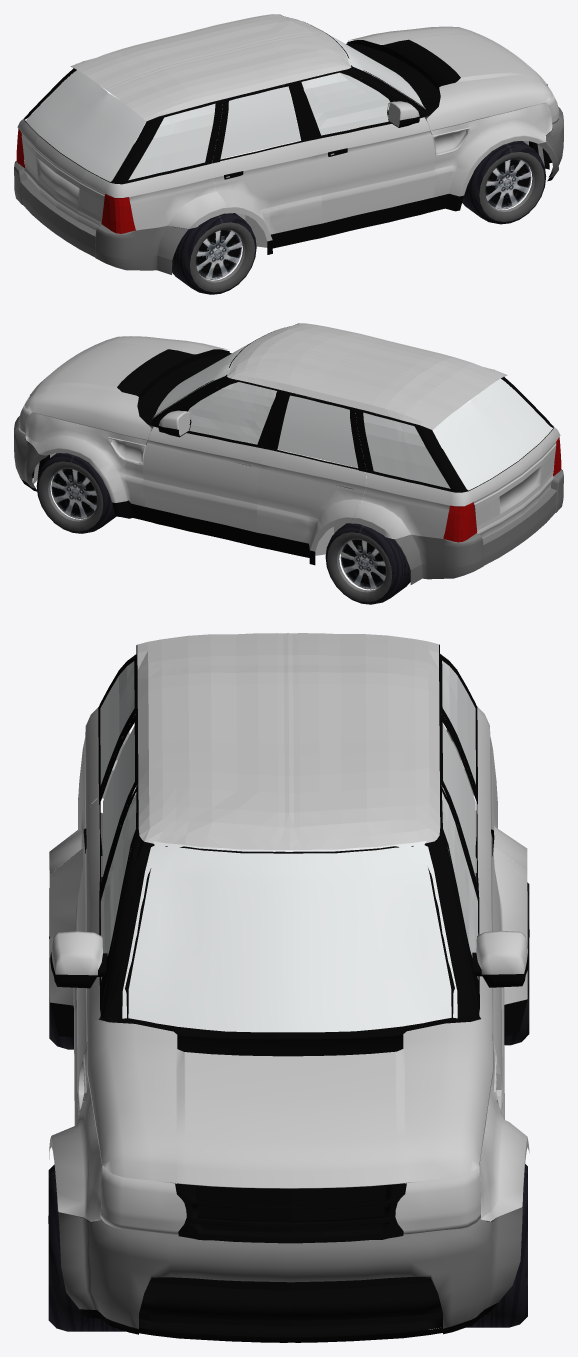
Rendered from suv0.gltf.
3 renders of one model, top to bottom at view 1: azimuth 30°, elevation 25°; view 2: azimuth 150°, elevation 25°; view 3: azimuth 270°, elevation 25°, orthographic. The views are drawn at different scales.
Parts seen in each view (by area): view 1: Chassis_000_Plane_027_Car_Body_Paint_000, Body_Rear_000_Plane_014_Car_Body_Paint_000, Door_Front_000_Plane_025_Car_Body_Paint_000, Hood_000_Plane_029_Car_Body_Paint_000, Door_Rear_000_Plane_024_Car_Body_Paint_000, Window_Rear_000_Plane_012_Tinted_Glass_000, tyre01, tyre002, Front_Wings_000_Plane_026_Car_Body_Paint_000, Line001, Window_Front_Right_000_Plane_021_Tinted_Glass_000, Rear_Bumper_000_Plane_010_Car_Body_Paint_000 (+13 smaller); view 2: Chassis_000_Plane_027_Car_Body_Paint_000, Body_Rear_000_Plane_014_Car_Body_Paint_000, Door_Front_000_Plane_025_Car_Body_Paint_000, Hood_000_Plane_029_Car_Body_Paint_000, Door_Rear_000_Plane_024_Car_Body_Paint_000, Window_Rear_000_Plane_012_Tinted_Glass_000, tyre01, Front_Wings_000_Plane_026_Car_Body_Paint_000, tyre002, Line002, Window_Front_Left_000_Plane_020_Tinted_Glass_000, Window_Near_Rear_000_Plane_011_Tinted_Glass_000 (+13 smaller); view 3: Chassis_000_Plane_027_Car_Body_Paint_000, Hood_000_Plane_029_Car_Body_Paint_000, Windscreen_000_Plane_017_Tinted_Glass_000, Front_Bumper_000_Plane_062_Car_Body_Paint_000, Front_Bumper_000_Plane_062_Shiny_Plastic_000, Chassis_000_Plane_027_Shiny_Plastic_000, Plane_002_Plane_023_Material_031, Door_Rear_000_Plane_024_Car_Body_Paint_000, Front_Wings_000_Plane_026_Car_Body_Paint_000, Headlights_Glass_000_Plane_030_Transparent_Glass_000, Front_Grill_000_Plane_069_Shiny_Plastic_000, tyre002 (+14 smaller).
Part boxes in pixels (box(x1,y1,x2,y2)): Chassis_000_Plane_027_Car_Body_Paint_000: box(71, 14, 351, 121); Body_Rear_000_Plane_014_Car_Body_Paint_000: box(17, 118, 230, 230); Door_Front_000_Plane_025_Car_Body_Paint_000: box(313, 117, 435, 223); Hood_000_Plane_029_Car_Body_Paint_000: box(348, 26, 552, 130); Door_Rear_000_Plane_024_Car_Body_Paint_000: box(212, 140, 321, 241); Window_Rear_000_Plane_012_Tinted_Glass_000: box(26, 70, 145, 181); tyre01: box(101, 143, 256, 294); tyre002: box(364, 115, 546, 224); Front_Wings_000_Plane_026_Car_Body_Paint_000: box(431, 102, 552, 197); Line001: box(220, 86, 300, 158); Window_Front_Right_000_Plane_021_Tinted_Glass_000: box(301, 72, 390, 135); Rear_Bumper_000_Plane_010_Car_Body_Paint_000: box(14, 161, 188, 259); Chassis_000_Plane_027_Car_Body_Paint_000: box(227, 323, 506, 429); Body_Rear_000_Plane_014_Car_Body_Paint_000: box(351, 426, 560, 539); Door_Front_000_Plane_025_Car_Body_Paint_000: box(142, 426, 265, 532); Hood_000_Plane_029_Car_Body_Paint_000: box(25, 336, 227, 440); Door_Rear_000_Plane_024_Car_Body_Paint_000: box(256, 449, 366, 551); Window_Rear_000_Plane_012_Tinted_Glass_000: box(432, 378, 551, 490); tyre01: box(325, 449, 476, 604); Front_Wings_000_Plane_026_Car_Body_Paint_000: box(25, 412, 147, 506); tyre002: box(36, 425, 153, 533); Line002: box(277, 395, 358, 467); Window_Front_Left_000_Plane_020_Tinted_Glass_000: box(188, 382, 276, 444); Window_Near_Rear_000_Plane_011_Tinted_Glass_000: box(363, 412, 450, 488); Chassis_000_Plane_027_Car_Body_Paint_000: box(137, 633, 440, 851); Hood_000_Plane_029_Car_Body_Paint_000: box(87, 1018, 493, 1188); Windscreen_000_Plane_017_Tinted_Glass_000: box(122, 841, 457, 1032); Front_Bumper_000_Plane_062_Car_Body_Paint_000: box(58, 1207, 522, 1328); Front_Bumper_000_Plane_062_Shiny_Plastic_000: box(80, 1281, 497, 1342); Chassis_000_Plane_027_Shiny_Plastic_000: box(100, 644, 479, 1039); Plane_002_Plane_023_Material_031: box(139, 1183, 442, 1326); Door_Rear_000_Plane_024_Car_Body_Paint_000: box(49, 796, 527, 1028); Front_Wings_000_Plane_026_Car_Body_Paint_000: box(49, 1043, 529, 1221); Headlights_Glass_000_Plane_030_Transparent_Glass_000: box(100, 1165, 480, 1234); Front_Grill_000_Plane_069_Shiny_Plastic_000: box(175, 1183, 406, 1243); tyre002: box(48, 1164, 527, 1331).
Size of the model in its own units: 81.74 by 29.98 by 35.29.
Materials: 19 (2 with a texture image).
